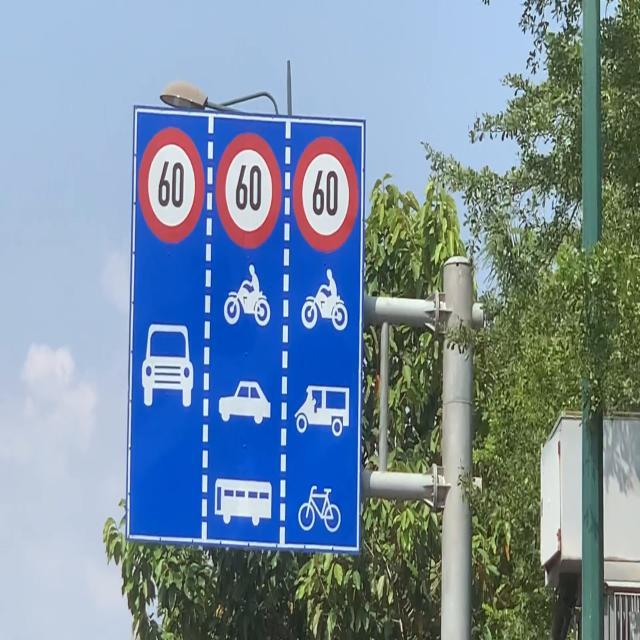Toc do toi da: (138, 126, 206, 244), (215, 130, 282, 249), (292, 136, 359, 252)
